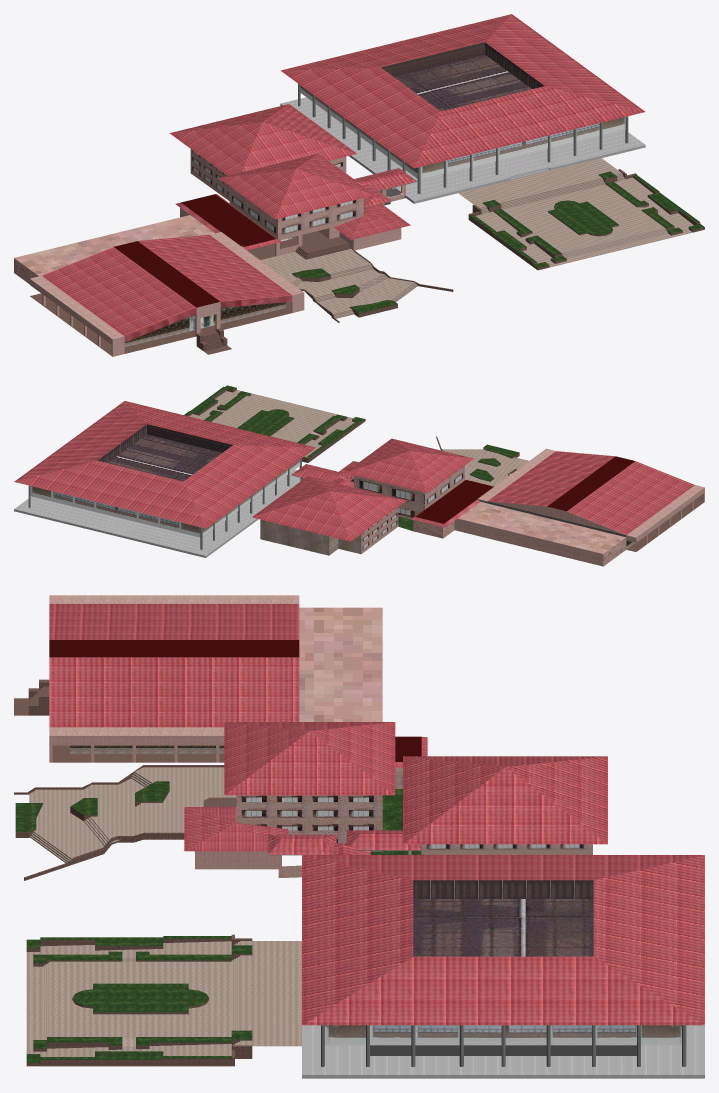
Rendered from 2nd_Student_Center_Tool.obj.
3 views of the same model, one above another, from view 1: azimuth 30°, elevation 25°; view 2: azimuth 150°, elevation 25°; view 3: azimuth 270°, elevation 25° (orthographic). The views are drawn at different scales.
Parts seen in each view (by area): view 1: VMtl1664, VMtl1243, VMtl1677, VMtl1317, VMtl1352, VMtl1663, VMtl2095, VMtl1346, VMtl2107, VMtl1347, VMtl1369, VMtl1661 (+19 smaller); view 2: VMtl1664, VMtl1243, VMtl1677, VMtl1352, VMtl1663, VMtl1317, VMtl1346, VMtl1347, VMtl1662, VMtl2095, VMtl1324, VMtl1241 (+19 smaller); view 3: VMtl1664, VMtl1243, VMtl1346, VMtl1317, VMtl1663, VMtl2095, VMtl1677, VMtl1347, VMtl1352, VMtl2107, VMtl1661, VMtl1368 (+22 smaller).
Boxes of the visible parts, box(x1,y1,x2,y2) form: VMtl1664: box(280, 14, 645, 168); VMtl1243: box(169, 104, 356, 175); VMtl1677: box(280, 97, 645, 203); VMtl1317: box(218, 154, 410, 239); VMtl1352: box(42, 247, 195, 336); VMtl1663: box(381, 42, 544, 111); VMtl2095: box(502, 184, 676, 263); VMtl1346: box(138, 234, 291, 301); VMtl2107: box(458, 158, 624, 214); VMtl1347: box(14, 215, 214, 276); VMtl1369: box(229, 186, 363, 240); VMtl1661: box(420, 117, 625, 178); VMtl1664: box(14, 401, 315, 528); VMtl1243: box(252, 476, 406, 541); VMtl1677: box(14, 470, 300, 557); VMtl1352: box(567, 461, 694, 535); VMtl1663: box(97, 424, 232, 481); VMtl1317: box(345, 438, 473, 492); VMtl1346: box(488, 451, 614, 506); VMtl1347: box(458, 502, 625, 553); VMtl1662: box(30, 460, 300, 537); VMtl2095: box(211, 393, 337, 442); VMtl1324: box(454, 518, 626, 566); VMtl1241: box(260, 519, 361, 555); VMtl1664: box(302, 855, 704, 1025); VMtl1243: box(403, 756, 607, 844); VMtl1346: box(49, 657, 299, 727); VMtl1317: box(184, 722, 395, 851); VMtl1663: box(413, 880, 593, 956); VMtl2095: box(26, 961, 231, 1045); VMtl1677: box(302, 1025, 704, 1078); VMtl1347: box(299, 607, 382, 721); VMtl1352: box(49, 604, 299, 639); VMtl2107: box(231, 941, 301, 1046); VMtl1661: box(325, 1025, 681, 1045); VMtl1368: box(236, 795, 382, 851).
Size of the model in its own units: 189 by 20.17 by 122.
170 materials, 118 textured.
